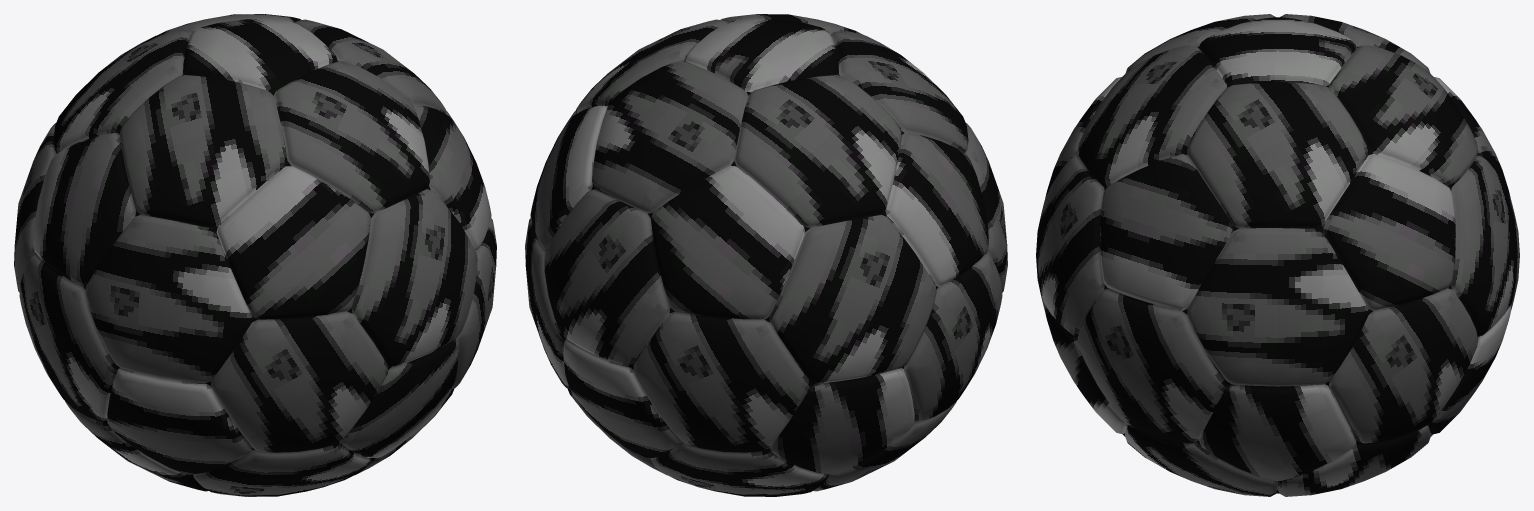
File: Ball_Soccer_SM.glb
3 views of the same model, side by side, from view 1: azimuth 30°, elevation 25°; view 2: azimuth 150°, elevation 25°; view 3: azimuth 270°, elevation 25° (orthographic).
Visible parts, largest first — view 1: Ball_Soccer_SM; view 2: Ball_Soccer_SM; view 3: Ball_Soccer_SM.
Boxes of the visible parts, x1=… form: Ball_Soccer_SM: x1=14, y1=14, x2=496, y2=496; Ball_Soccer_SM: x1=525, y1=14, x2=1007, y2=496; Ball_Soccer_SM: x1=1036, y1=14, x2=1519, y2=496.
Bounding box in the file's own units: 1.87 × 1.85 × 1.86.
Materials: 1 (1 with a texture image).
